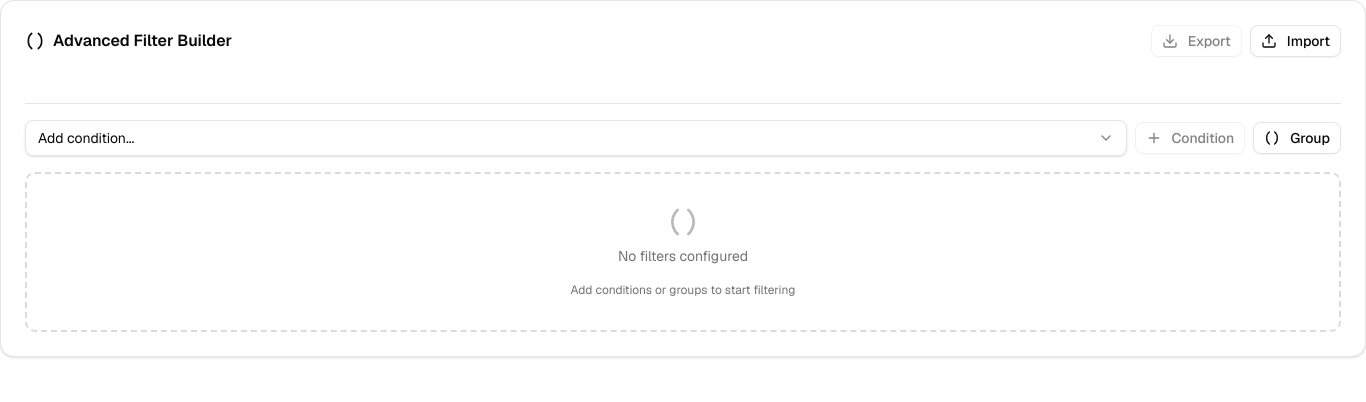
AdvancedFilterBuilder › Condition Management › adds a new condition when field is selected and button clicked
# Select a field from dropdown
Click the dropdown at [86, 138], box [25,120,1126,156]
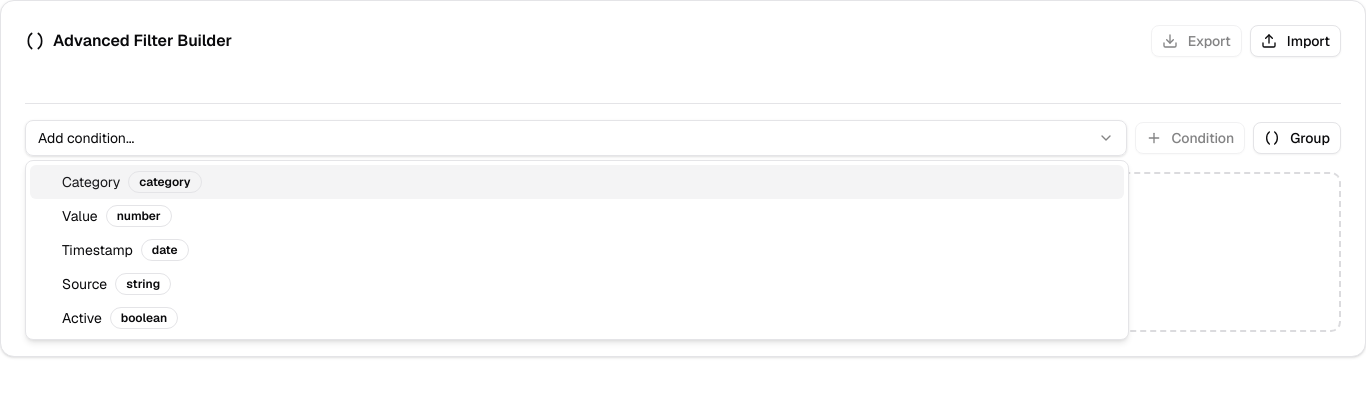
Check: the text "Category" is shown
Click the text "Category" at [91, 182], box [62,172,120,192]
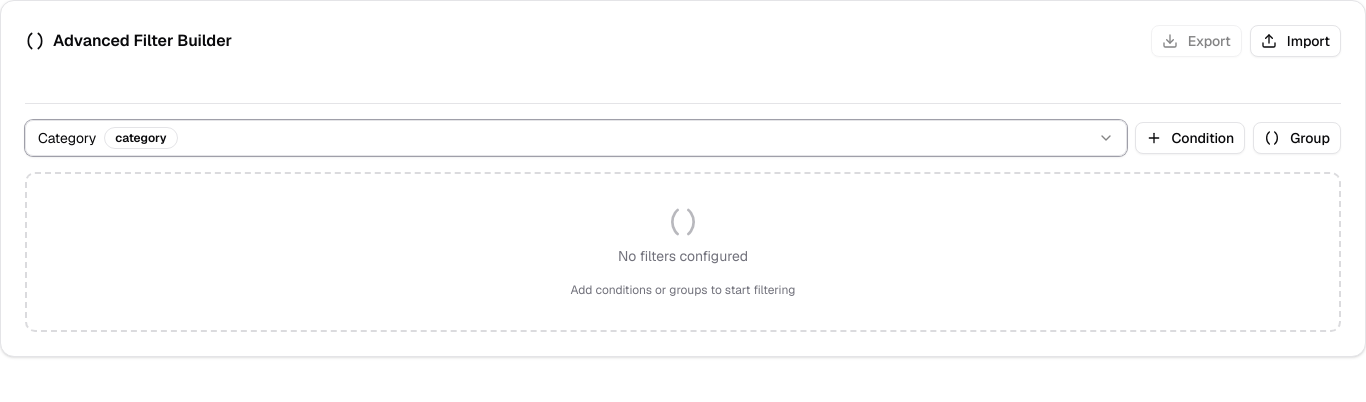
# Add condition
Click the button "Condition" at [1190, 138], box [1134,122,1245,154]
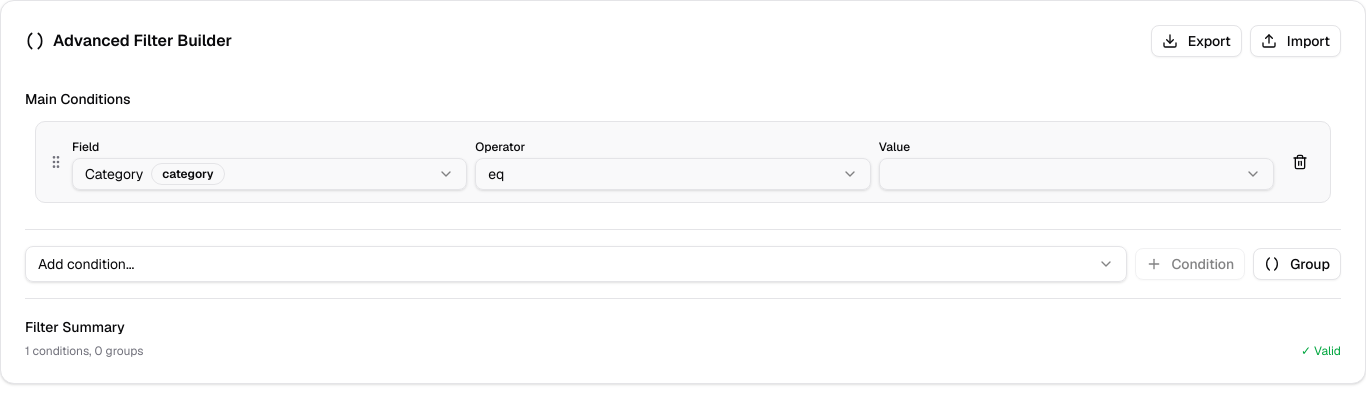
Check: the text "Main Conditions" is shown, box [25,90,130,108]
